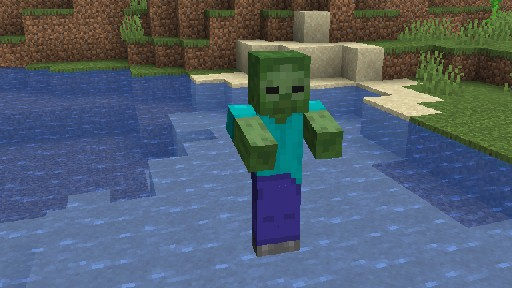zombie: (225, 49, 343, 256)
